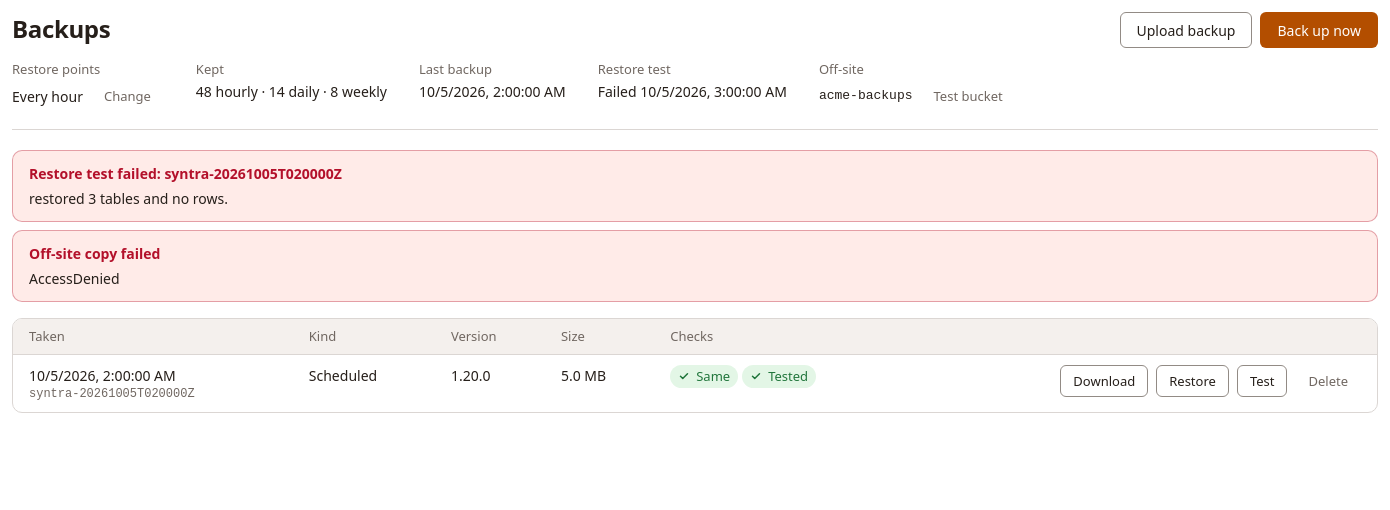
Scenario: BackupsPage › shows what failed: a restore test and an off-site copy, and tests the bucket
Expected: the text "Restore test failed: syntra-20261005T020000Z" is shown, [29, 164, 342, 183]
Expected: the text "Off-site copy failed" is shown, [29, 244, 160, 263]
Click the button "Test bucket" at (968, 97), box [920, 81, 1016, 113]
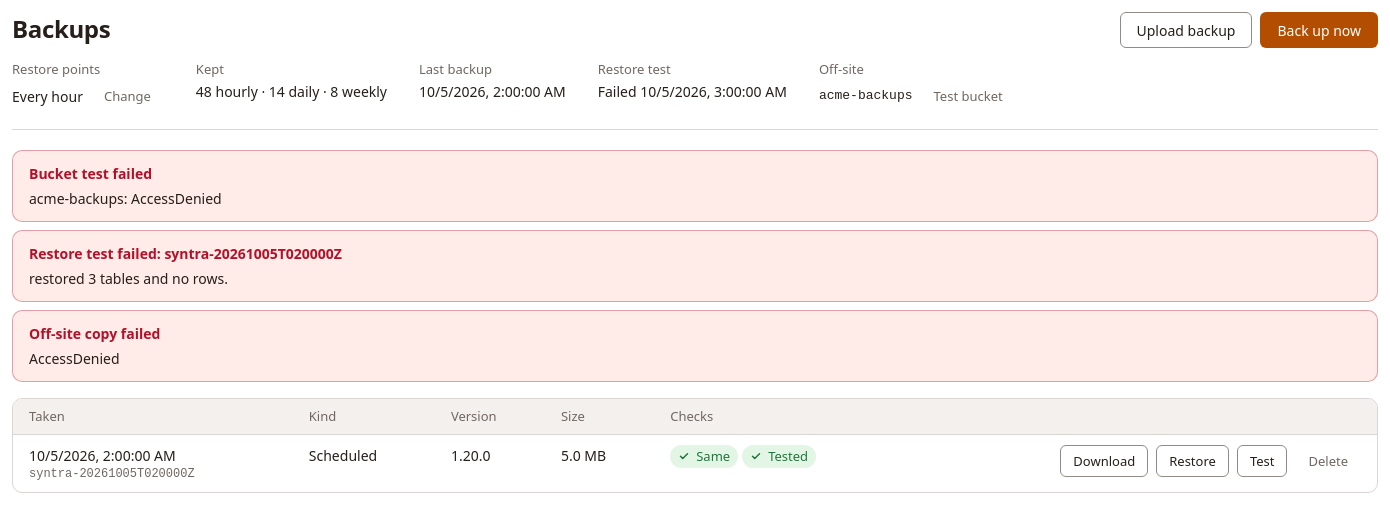
Now the text "Bucket test failed" is shown, box [29, 164, 152, 183]
Now the text "acme-backups: AccessDenied" is shown, box [29, 189, 222, 208]
